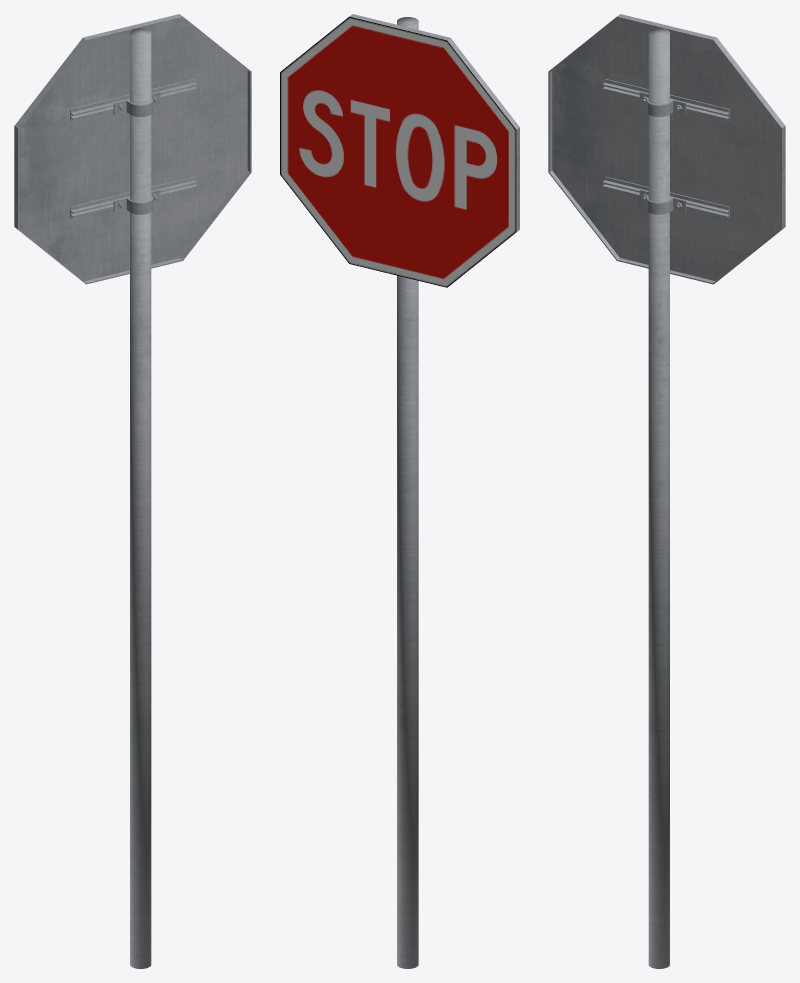
The model's file is Stop_v2.fbx.
3 renders of one model, left to right at view 1: azimuth 30°, elevation 25°; view 2: azimuth 150°, elevation 25°; view 3: azimuth 330°, elevation 25°, orthographic.
Visible parts, largest first — view 1: Stop v2; view 2: Stop v2; view 3: Stop v2.
Part boxes in pixels (x1,y1,x2,y2): Stop v2: (14,14,251,968); Stop v2: (280,14,519,968); Stop v2: (548,14,785,968).
Bounding box in the file's own units: 0.0876 × 0.75 × 2.86.
